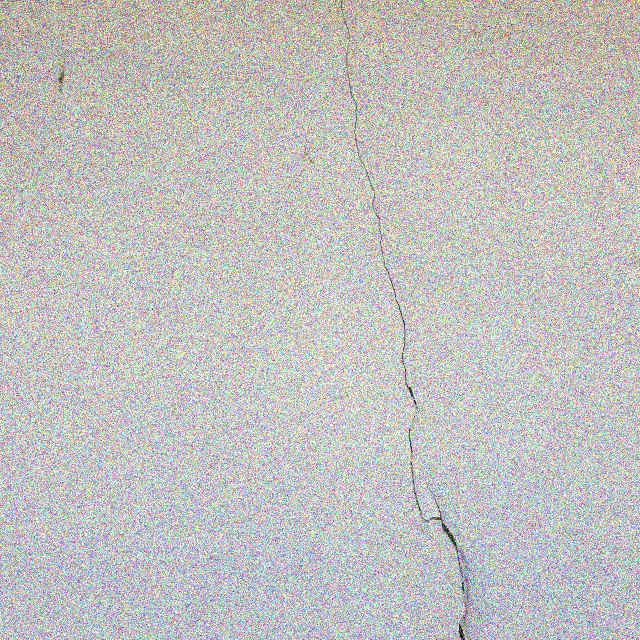SurfaceCrack: (308, 1, 506, 640)
